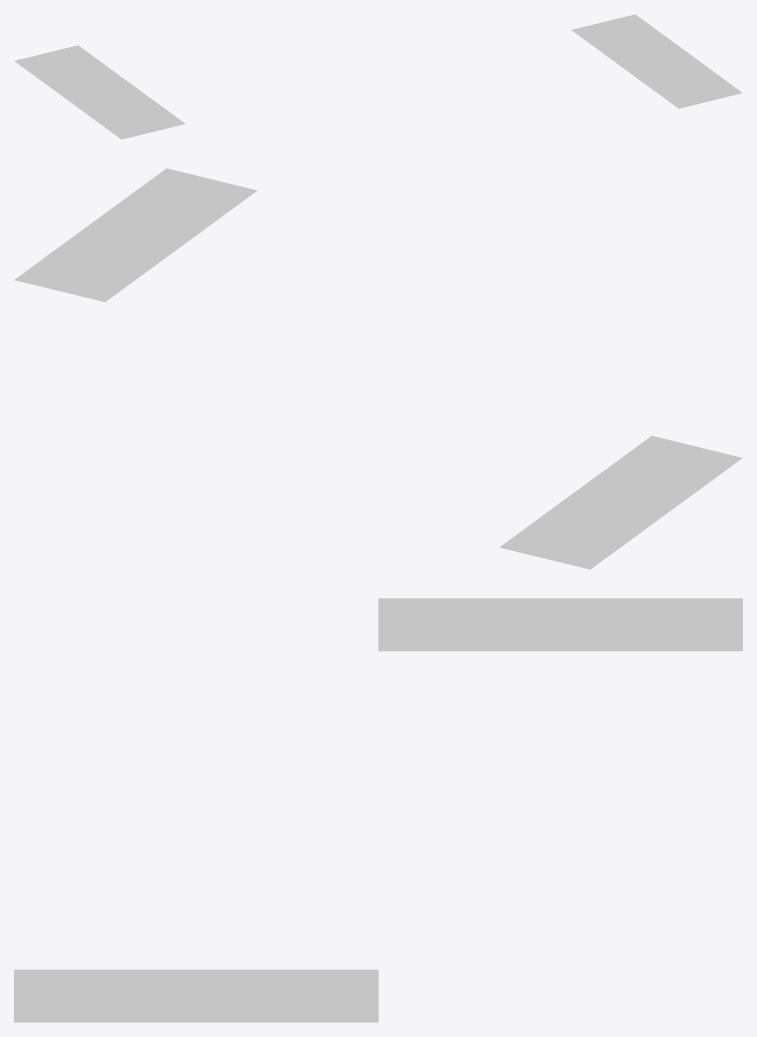
The model's file is kd_stage_135d18_2_10.glb.
3 renders of one model, top to bottom at view 1: azimuth 30°, elevation 25°; view 2: azimuth 150°, elevation 25°; view 3: azimuth 270°, elevation 25°, orthographic. The views are drawn at different scales.
Parts seen in each view (by area): view 1: kd_stage_135d18_2_10; view 2: kd_stage_135d18_2_10; view 3: kd_stage_135d18_2_10.
Boxes of the visible parts, x1=… form: kd_stage_135d18_2_10: x1=14, y1=14, x2=742, y2=139; kd_stage_135d18_2_10: x1=14, y1=168, x2=742, y2=569; kd_stage_135d18_2_10: x1=14, y1=598, x2=742, y2=1022.
Size of the model in its own units: 4 by 8.94e-08 by 2.9.
Materials: 1 (1 with a texture image).
